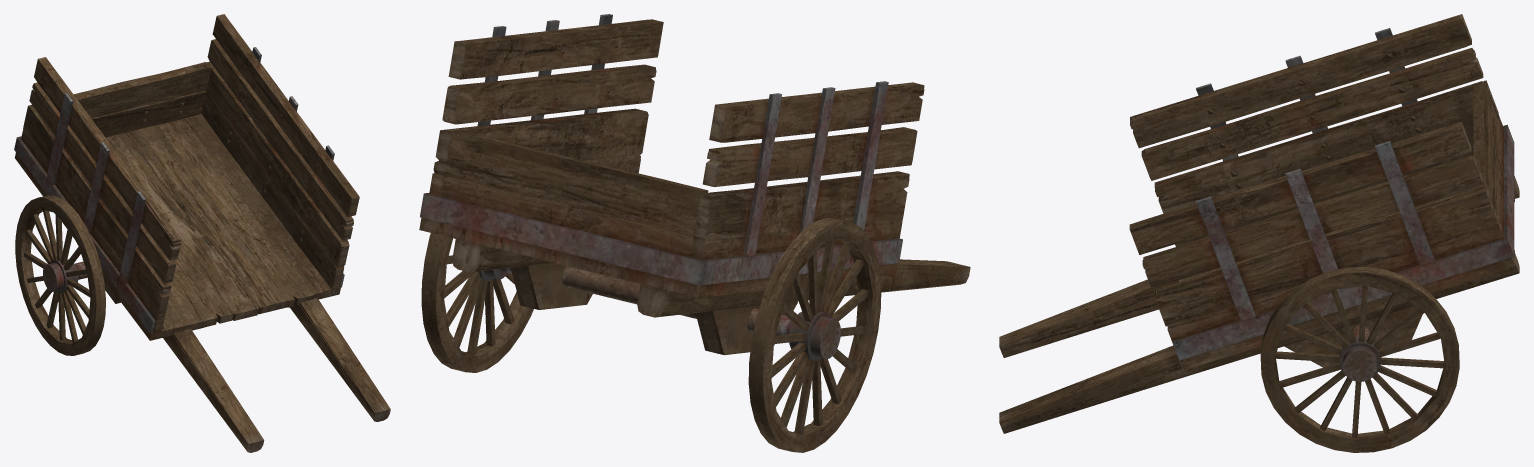
The model's file is Cart1.glb.
The picture shows the model from 3 angles, left to right: view 1: azimuth 30°, elevation 25°; view 2: azimuth 150°, elevation 25°; view 3: azimuth 270°, elevation 25°; orthographic projection. The views are drawn at different scales.
Parts seen in each view (by area): view 1: CartA; view 2: CartA; view 3: CartA.
Boxes of the visible parts, <box> form: CartA: <box>14,14,390,452</box>; CartA: <box>419,14,970,452</box>; CartA: <box>999,14,1519,452</box>.
Size of the model in its own units: 1.89 by 1.94 by 2.83.
1 material, 1 textured.
